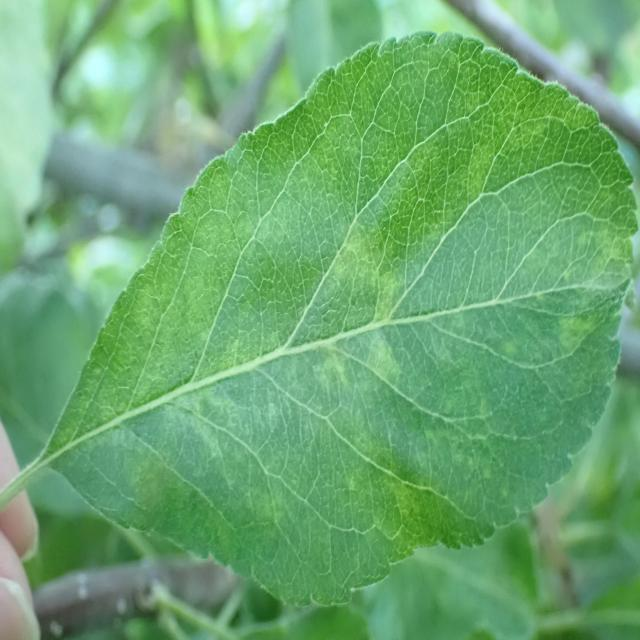scab: (107, 120, 615, 518)
